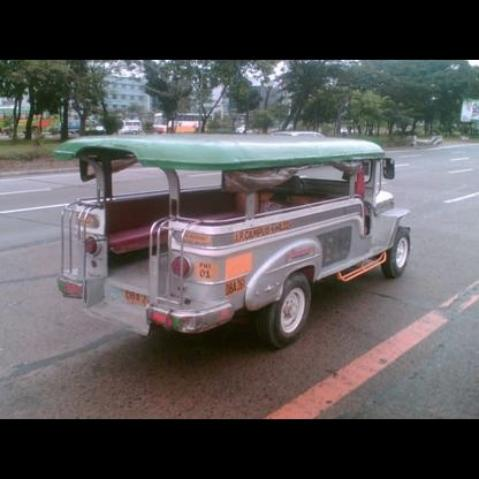jeepney: (27, 108, 427, 357)
